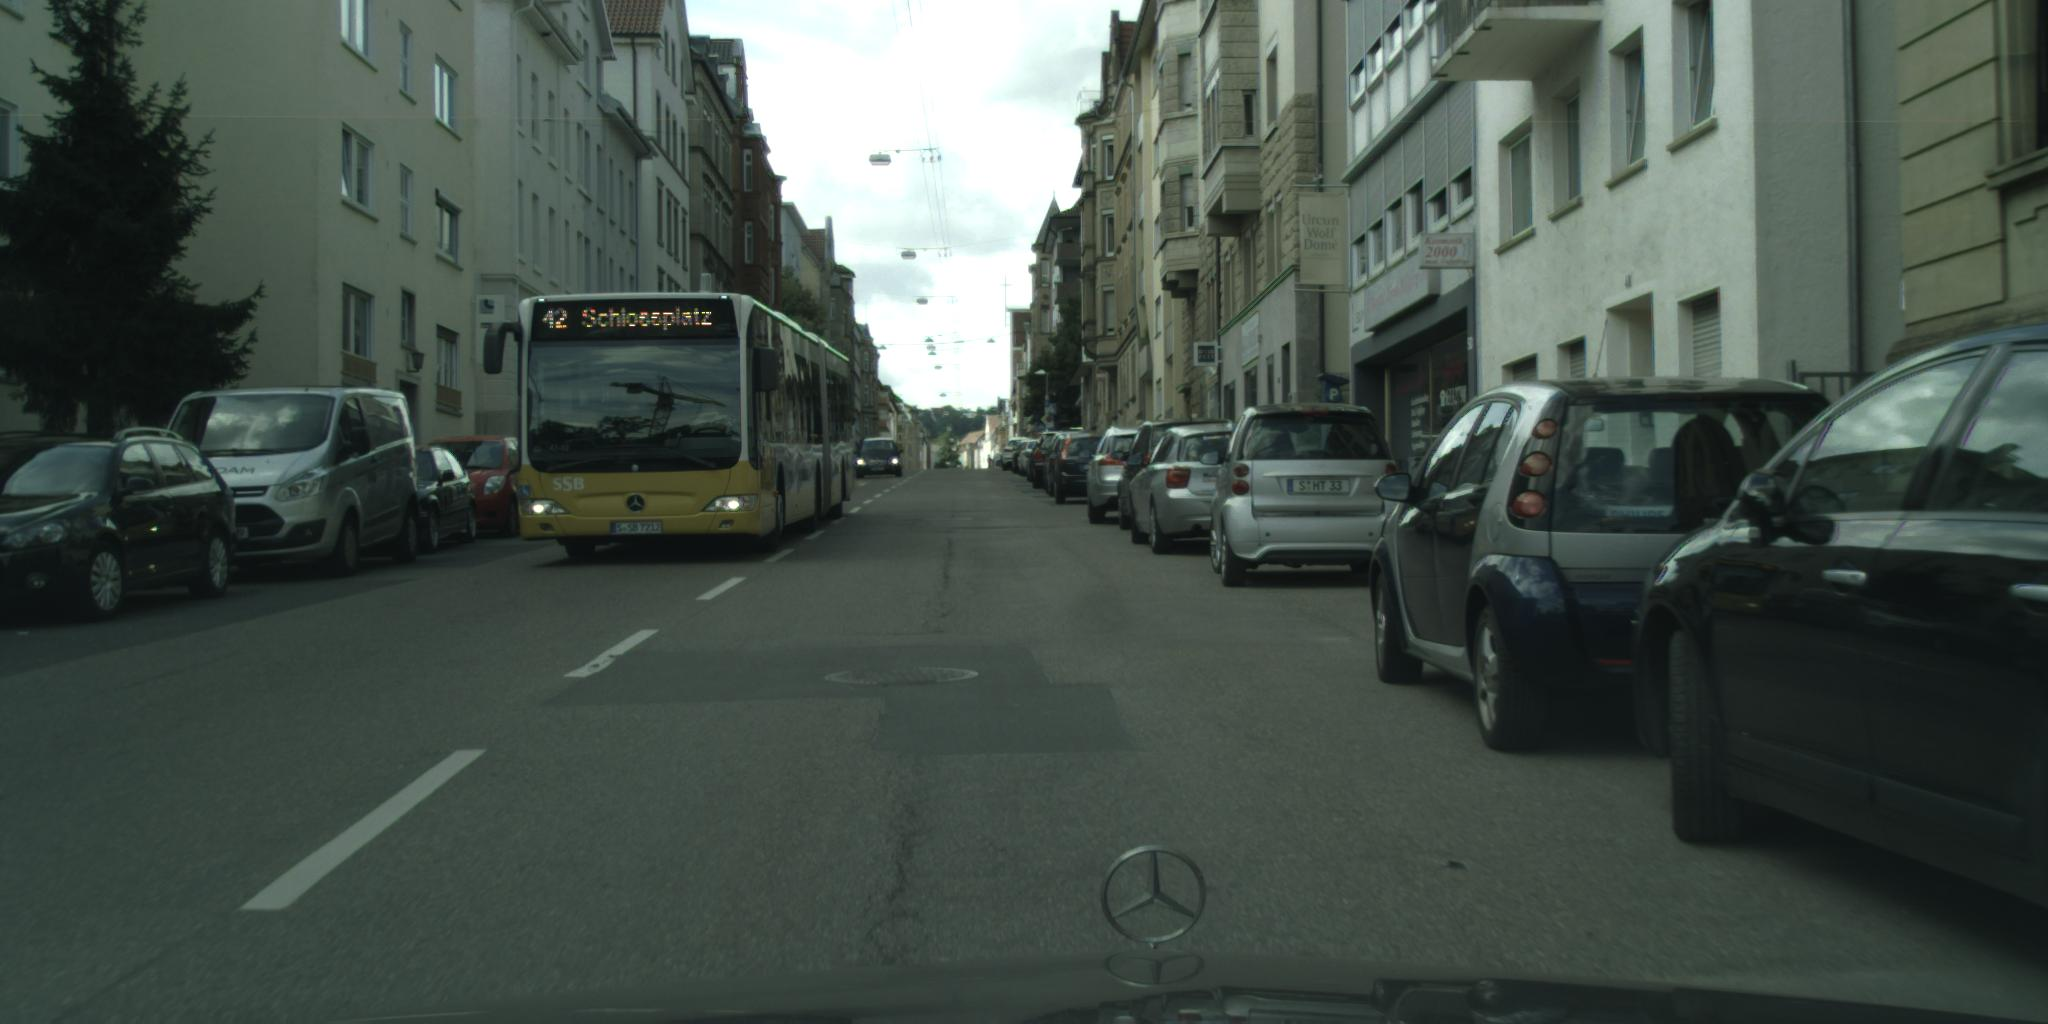bus: (483, 293, 858, 559)
car: (1633, 325, 2047, 909), (1371, 377, 1836, 756), (162, 387, 418, 577), (1, 428, 236, 624), (1200, 404, 1403, 590), (1127, 423, 1245, 556), (1112, 418, 1243, 532), (1079, 426, 1179, 526), (428, 436, 526, 539), (398, 445, 479, 555), (852, 439, 904, 481)
